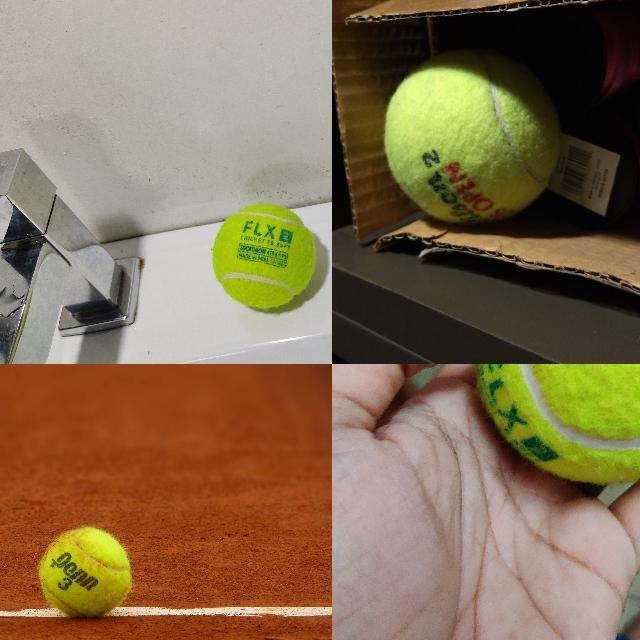tennis-ball: (382, 47, 562, 226), (475, 364, 639, 484), (210, 203, 316, 309), (39, 527, 130, 617)
